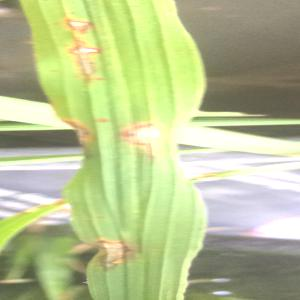1 RiceBlast: (51, 100, 116, 171), (119, 98, 176, 174), (80, 214, 140, 271), (64, 39, 113, 82), (53, 6, 99, 43)
